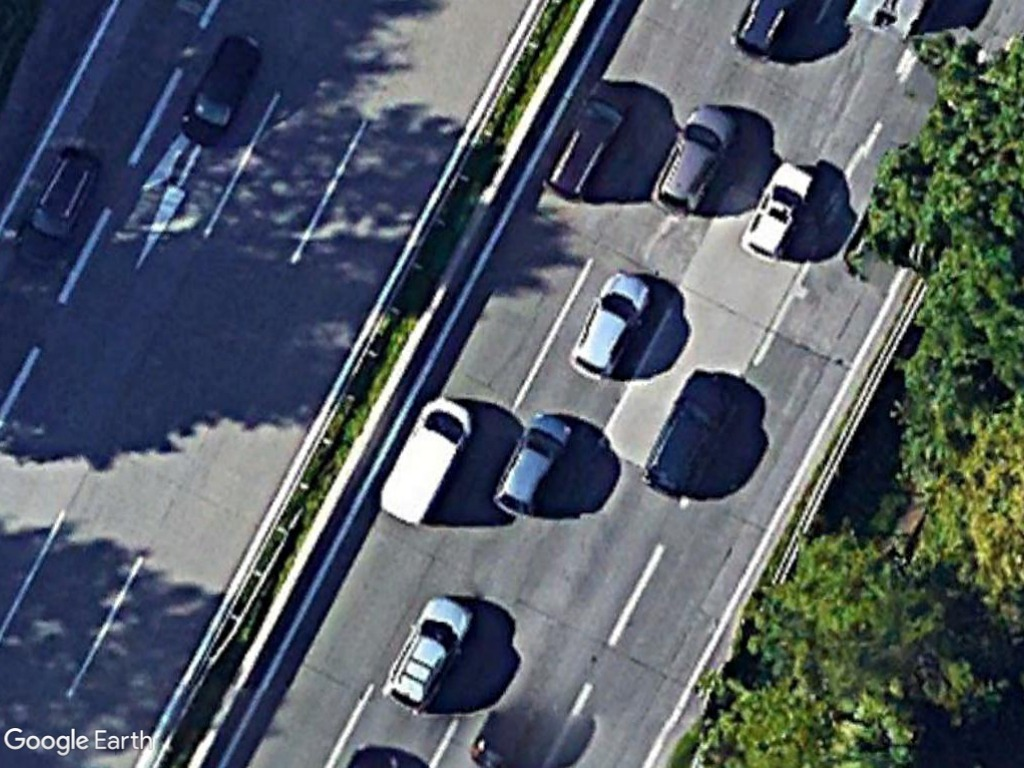car: (642, 369, 740, 503), (8, 137, 103, 273), (539, 73, 635, 205), (381, 591, 479, 718), (176, 26, 273, 151), (648, 99, 742, 221), (565, 264, 654, 388), (487, 407, 578, 522), (734, 156, 821, 267)
van: (372, 388, 474, 532)
